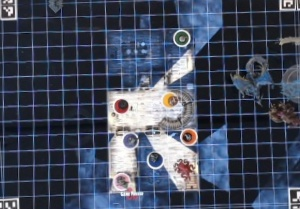blue: (140, 148, 168, 171)
green: (170, 27, 191, 46)
orange: (178, 126, 198, 148)
pink: (111, 169, 132, 193)
red: (110, 96, 129, 117)
violet: (120, 130, 138, 149)
yellow: (159, 89, 178, 110)
